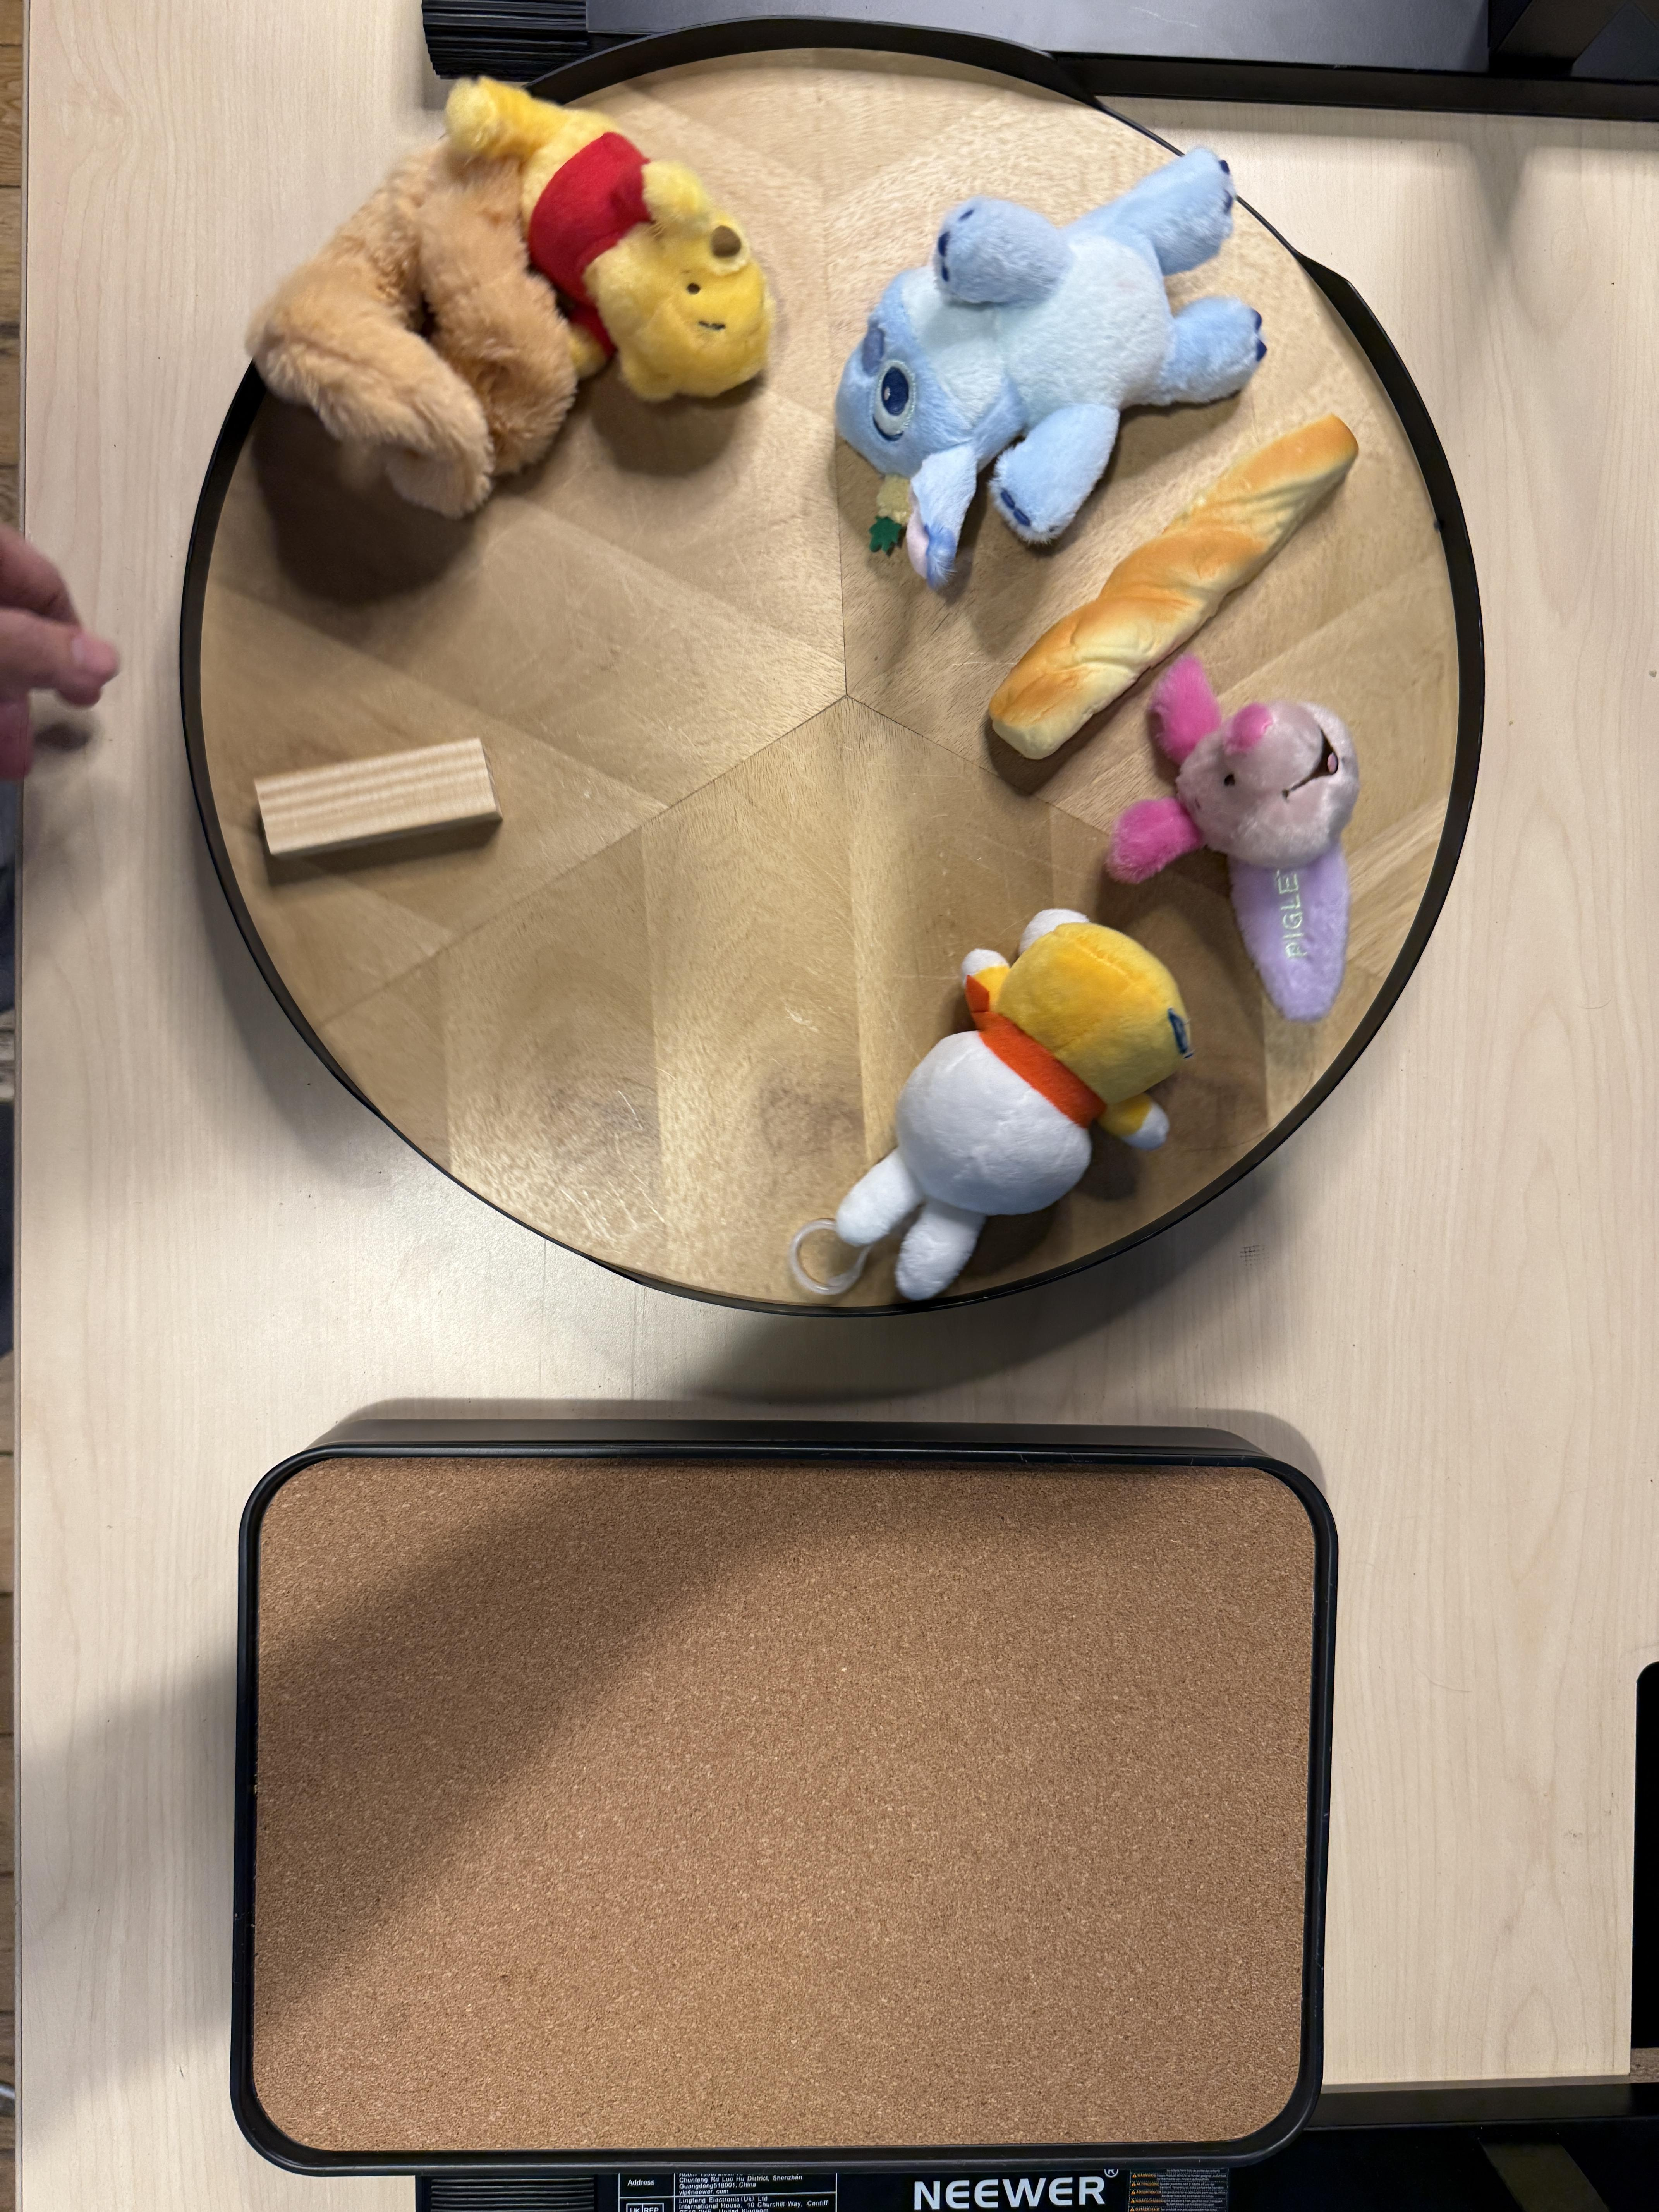block: (237, 725, 516, 862)
bread: (988, 411, 1364, 765)
doll: (240, 70, 777, 547), (843, 143, 1274, 592), (829, 906, 1202, 1332), (1112, 658, 1399, 1019)
